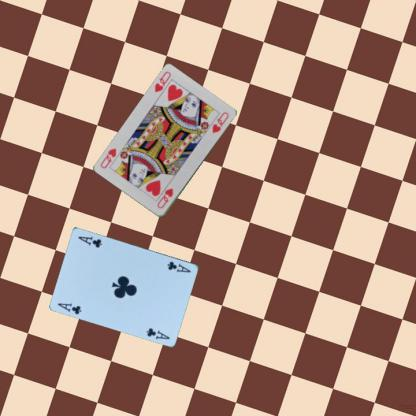Ac: (56, 300, 83, 316), (164, 259, 192, 274)
Qh: (152, 68, 172, 94), (154, 186, 174, 210)
